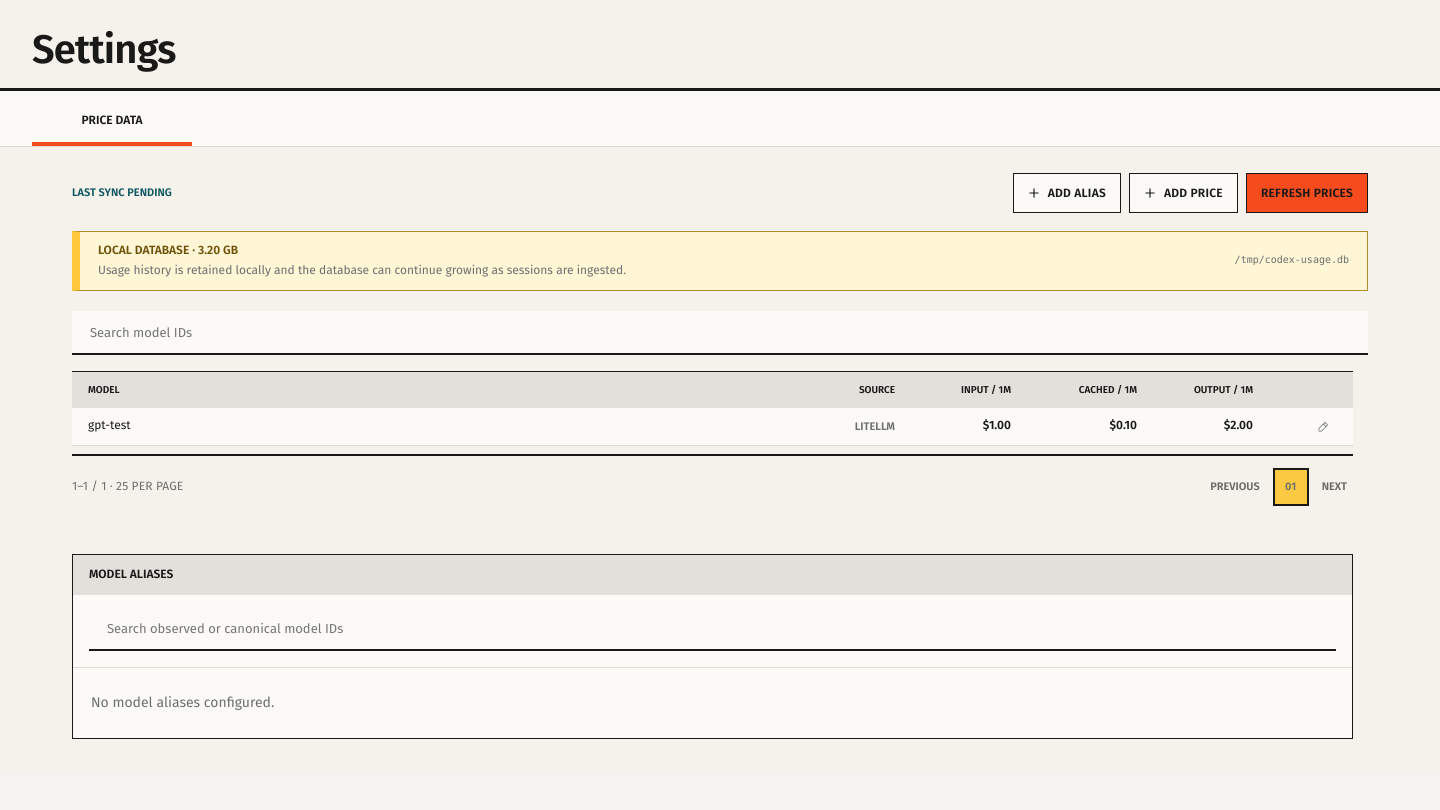
Test case: SettingsPage price editor › shows price provenance without an effective-date column and retains exact values in the editor
This screenshot has width=1440, height=810.
Expected: the text "gpt-test" is shown, [88, 419, 131, 433]
Expected: the column heading "EFFECTIVE" is not shown
What coordinates should you click on to do the following:
click the button named "Override gpt-test price"
I would click on:
 (1323, 426)
Its box is [1309, 412, 1337, 440].
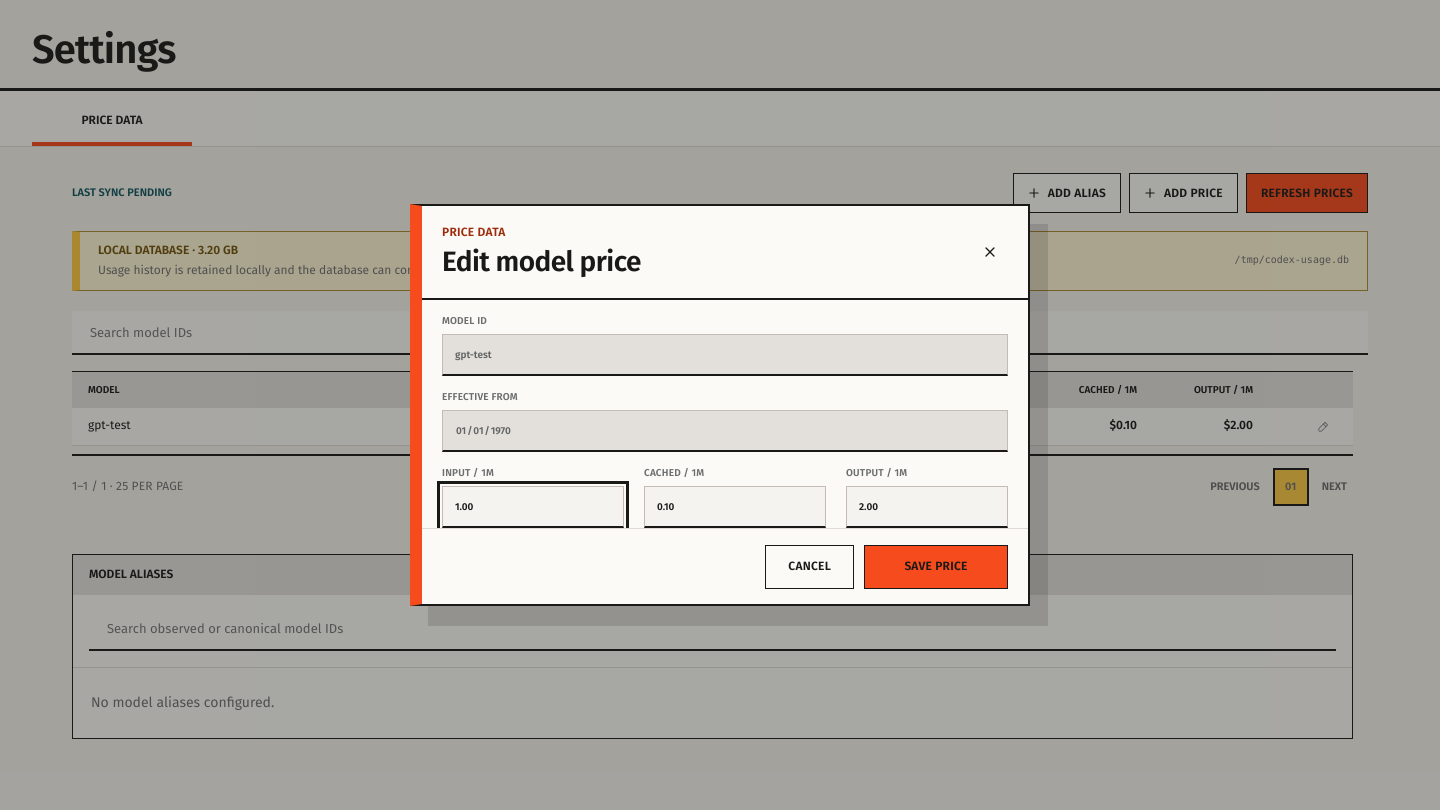
Now the date field labelled "EFFECTIVE FROM" holds "1970-01-01", box [442, 410, 1008, 452]
Now the field labelled "INPUT / 1M" holds "1.00", box [442, 486, 624, 528]
Now the field labelled "CACHED / 1M" holds "0.10", box [644, 486, 826, 528]
